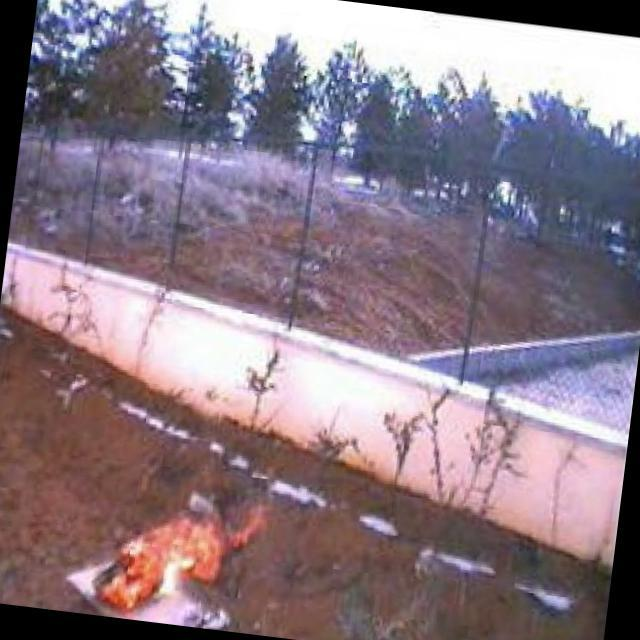Fire: (81, 483, 268, 629)
